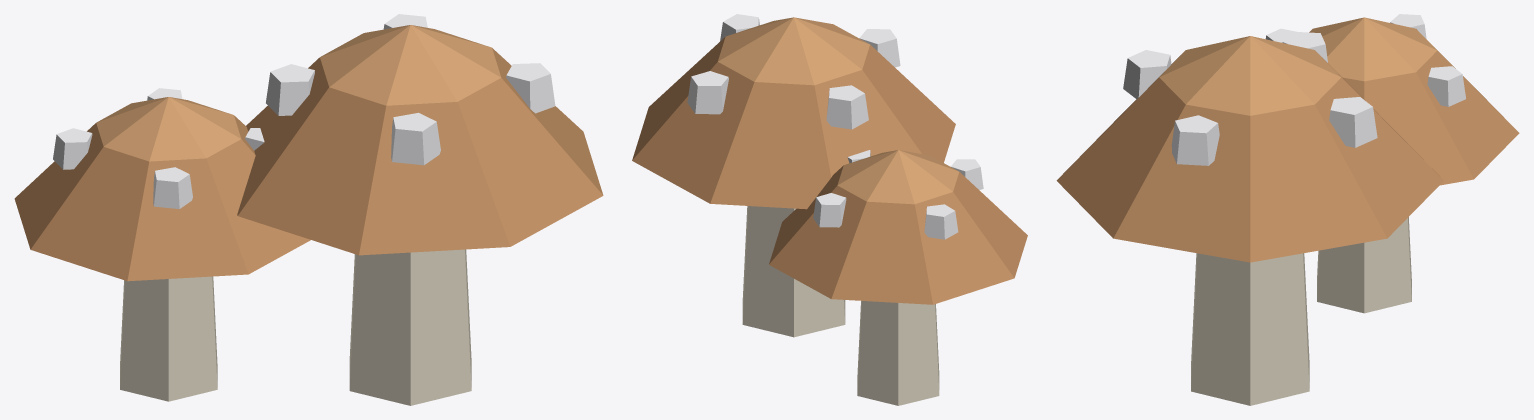
Rendered from mushrooms_brown.df625391a0.gltf.
3 views of the same model, side by side, from view 1: azimuth 30°, elevation 25°; view 2: azimuth 150°, elevation 25°; view 3: azimuth 270°, elevation 25° (orthographic). The views are drawn at different scales.
Parts seen in each view (by area): view 1: mushrooms_brown; view 2: mushrooms_brown; view 3: mushrooms_brown.
Part boxes in pixels (x1,y1,x2,y2): mushrooms_brown: (14,14,603,405); mushrooms_brown: (632,14,1027,405); mushrooms_brown: (1056,14,1519,405).
Size of the model in its own units: 0.486 by 0.33 by 0.406.
1 material, 1 textured.
